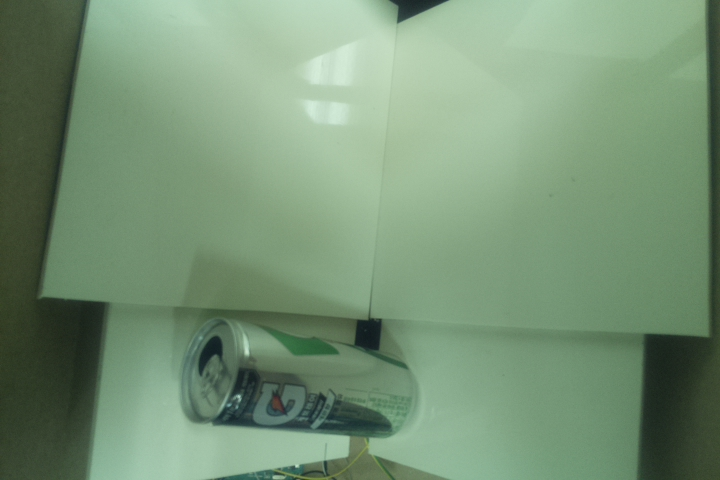can: (176, 317, 422, 439)
